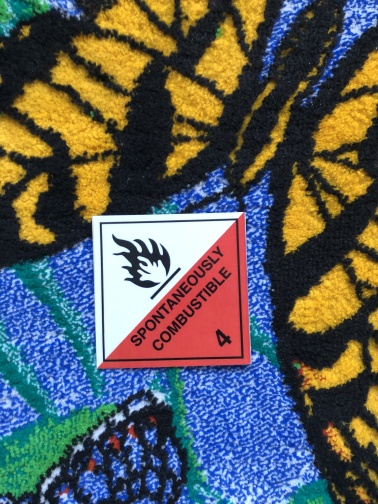SpontaneouslyCombustible: (91, 213, 252, 368)
